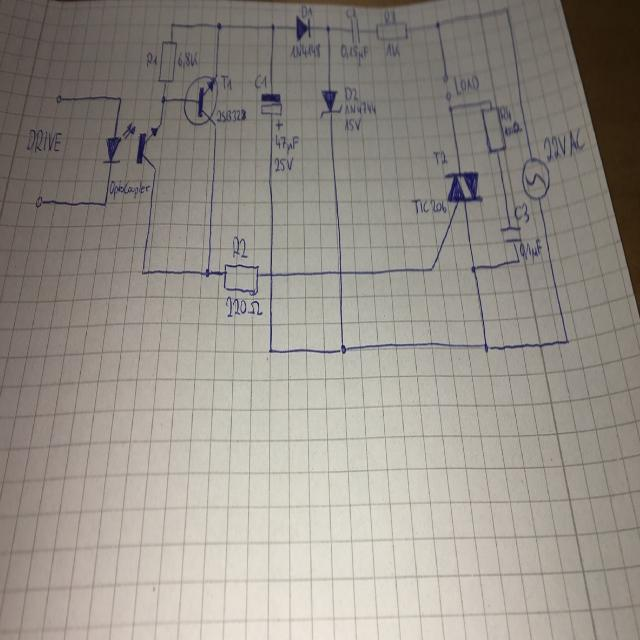capacitor: (260, 91, 284, 130), (498, 223, 523, 244), (349, 16, 361, 43)
crossover: (267, 267, 274, 279), (338, 266, 343, 277)
diode: (318, 87, 342, 119), (296, 14, 310, 41)
junction: (338, 341, 347, 355), (482, 340, 490, 354), (203, 266, 210, 279), (434, 19, 441, 30), (269, 21, 276, 32), (215, 20, 222, 31), (140, 264, 145, 278), (470, 263, 476, 274), (428, 263, 434, 274), (160, 93, 165, 104), (503, 4, 509, 13), (325, 23, 330, 33), (267, 345, 272, 355), (117, 93, 122, 102), (564, 337, 569, 345), (487, 96, 492, 104), (102, 199, 107, 207), (448, 104, 452, 113), (169, 20, 173, 29), (516, 257, 520, 264)
resistor: (480, 105, 507, 154), (222, 261, 258, 296), (157, 37, 177, 83), (374, 20, 408, 42)
source: (520, 155, 550, 201)
terminal: (444, 88, 451, 106), (34, 194, 43, 208), (442, 70, 448, 84), (55, 93, 63, 103)
text: (542, 125, 584, 162), (25, 126, 62, 153), (224, 293, 263, 318), (109, 178, 150, 200), (339, 42, 368, 68), (409, 196, 446, 214), (453, 72, 479, 96), (519, 237, 542, 264), (288, 41, 320, 60), (274, 132, 299, 154), (215, 106, 247, 122), (344, 100, 376, 115), (231, 233, 248, 259), (513, 199, 530, 224), (273, 154, 294, 172), (177, 50, 199, 66), (504, 119, 522, 138), (384, 40, 400, 58), (343, 84, 358, 102), (343, 116, 361, 131), (382, 7, 396, 26), (219, 72, 232, 92), (432, 148, 447, 165), (253, 72, 267, 90), (499, 102, 511, 122), (145, 51, 157, 68), (300, 2, 312, 19), (343, 5, 358, 18)
transistor: (182, 73, 218, 130)
